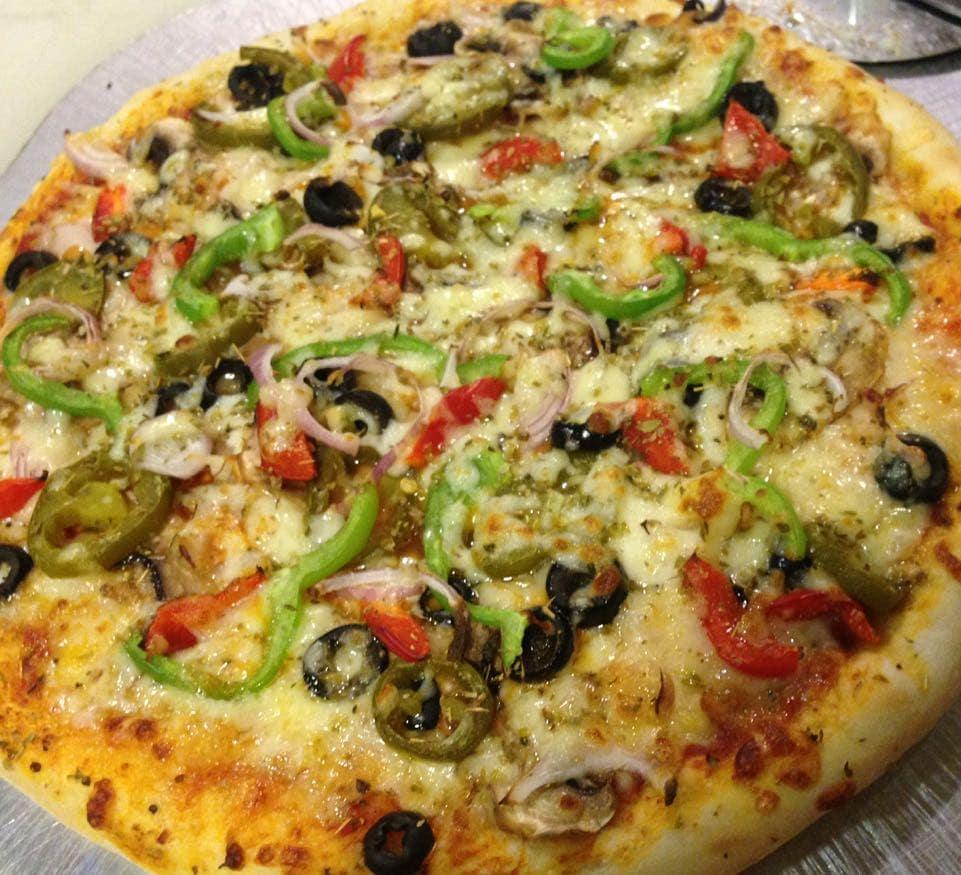Mushroom: (494, 775, 617, 836)
Olives: (302, 624, 387, 698), (548, 559, 627, 628), (506, 606, 574, 682), (875, 434, 946, 502), (364, 811, 434, 875), (720, 84, 779, 133), (306, 179, 363, 227), (419, 579, 476, 626), (695, 177, 753, 221), (5, 251, 59, 291), (551, 422, 623, 452), (230, 66, 284, 101), (0, 542, 33, 598), (408, 23, 460, 56), (374, 128, 424, 160), (683, 0, 726, 23), (503, 0, 538, 22), (844, 220, 877, 243)
Onion: (129, 409, 213, 479), (523, 355, 571, 447), (312, 571, 419, 602), (67, 131, 127, 180), (729, 358, 755, 446)
Peppers: (27, 449, 173, 578), (753, 127, 867, 239), (373, 662, 494, 764), (176, 206, 282, 306), (127, 635, 290, 700), (277, 485, 379, 580), (810, 526, 909, 615), (396, 62, 507, 141), (720, 472, 810, 568), (472, 478, 553, 581), (0, 263, 104, 338), (153, 307, 262, 376), (372, 184, 455, 265), (554, 268, 688, 317), (717, 398, 800, 472), (277, 334, 448, 369), (645, 358, 786, 398), (193, 110, 329, 143), (543, 26, 613, 70), (242, 43, 317, 82), (425, 480, 451, 579)
Pizza: (0, 0, 961, 875)
